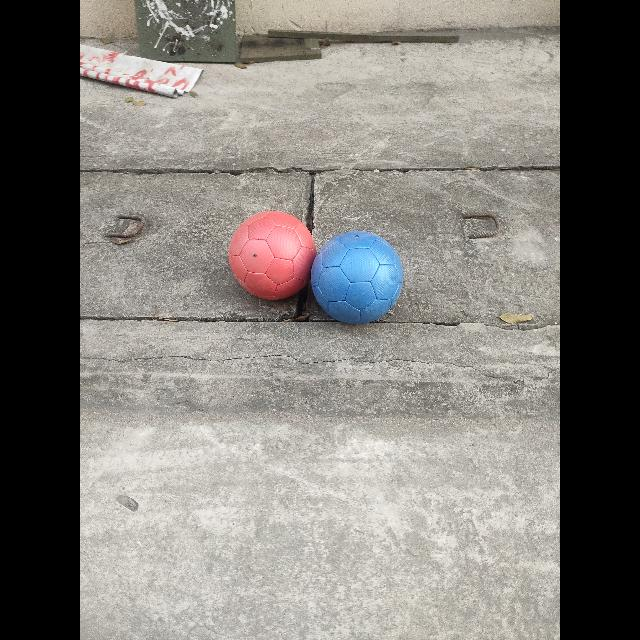B: (311, 231, 404, 325)
R: (230, 211, 316, 301)
